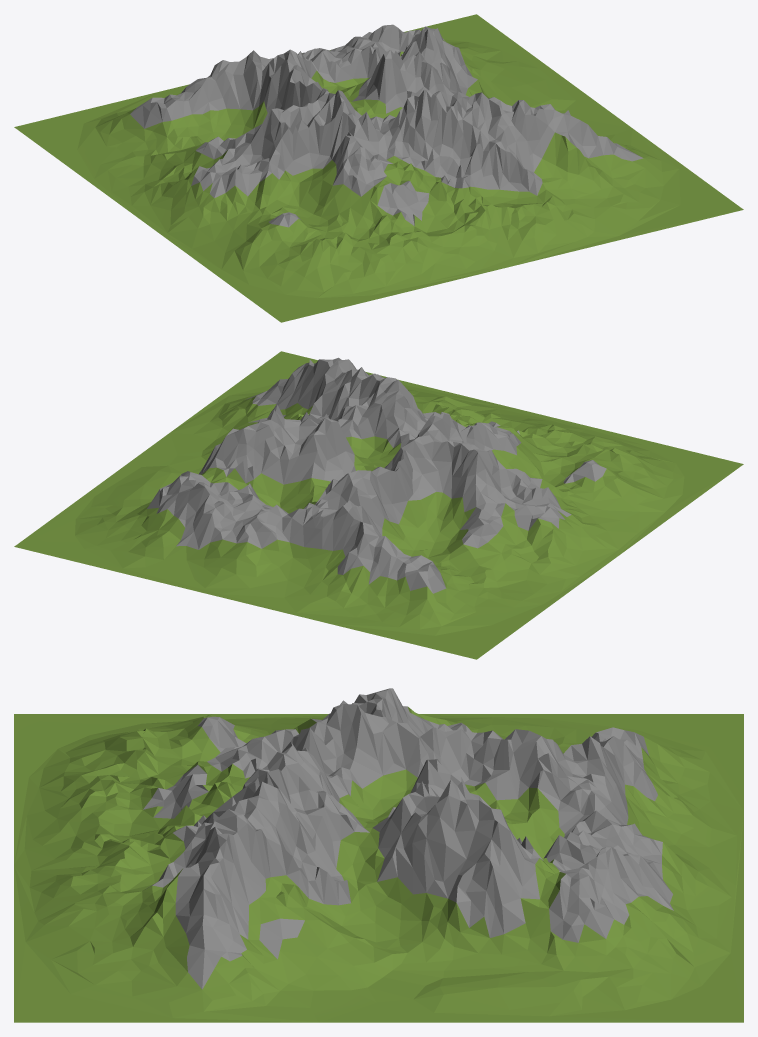
The model's file is Landscape_02.fbx.
The picture shows the model from 3 angles, top to bottom: view 1: azimuth 30°, elevation 25°; view 2: azimuth 150°, elevation 25°; view 3: azimuth 270°, elevation 25°; orthographic projection. The views are drawn at different scales.
Parts seen in each view (by area): view 1: Landscape_02; view 2: Landscape_02; view 3: Landscape_02.
Part boxes in pixels (x1,y1,x2,y2): Landscape_02: (14, 14, 743, 322); Landscape_02: (14, 351, 743, 659); Landscape_02: (14, 688, 743, 1022).
Bounding box in the file's own units: 10000 × 2103 × 10000.
